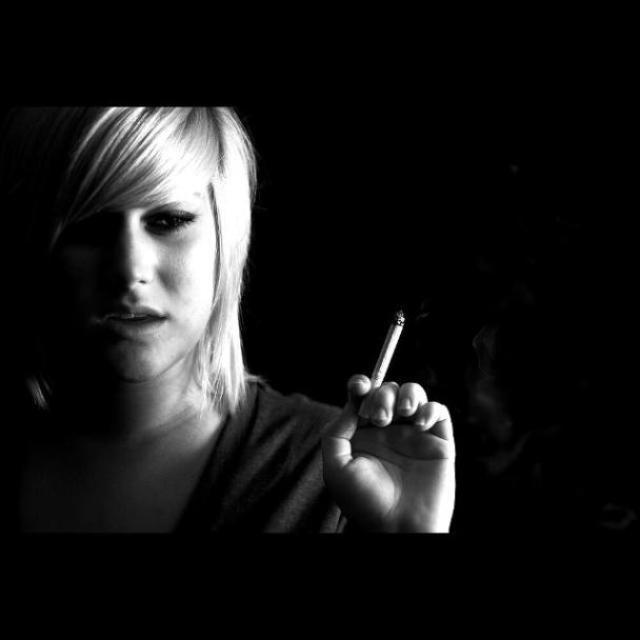rokok: (354, 305, 406, 427)
